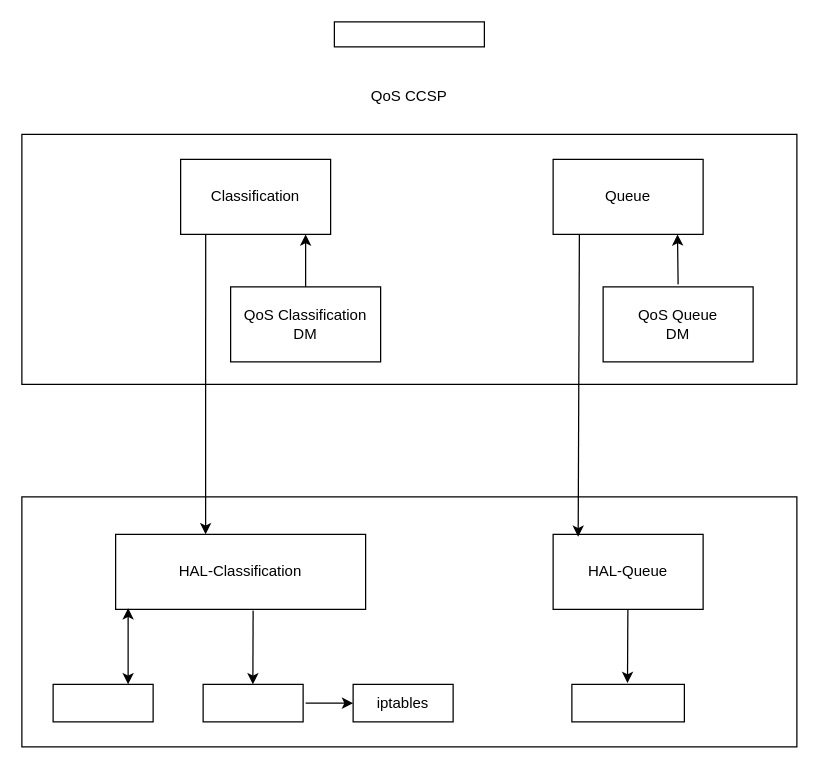
The diagram is 819 pixels wide and 769 high, and some of its shapes have lost their labels. Each missing label, with the box of its shape:
DBUS: (333, 21, 484, 47)
iproute2-tc: (571, 683, 684, 722)
time: (52, 683, 153, 722)
UTOPIA Firewall: (202, 683, 303, 722)
